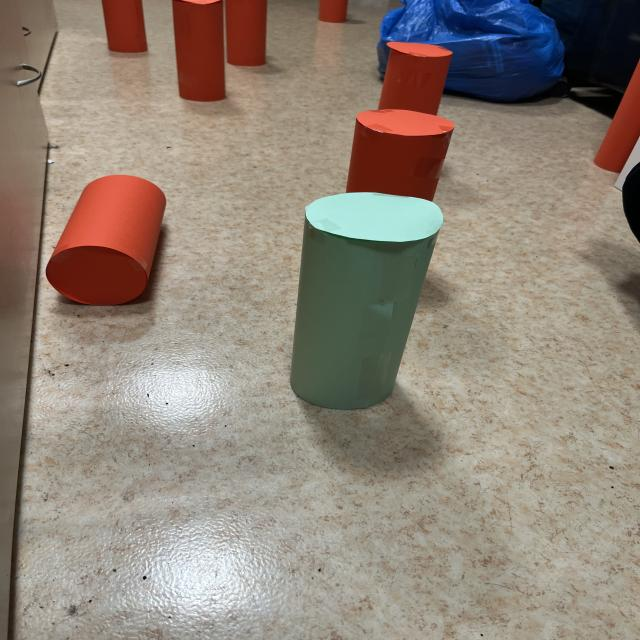meta: (290, 193, 443, 409)
przeszkoda: (346, 42, 454, 200), (46, 175, 166, 305), (172, 0, 266, 101), (378, 42, 452, 115), (102, 0, 147, 53)
